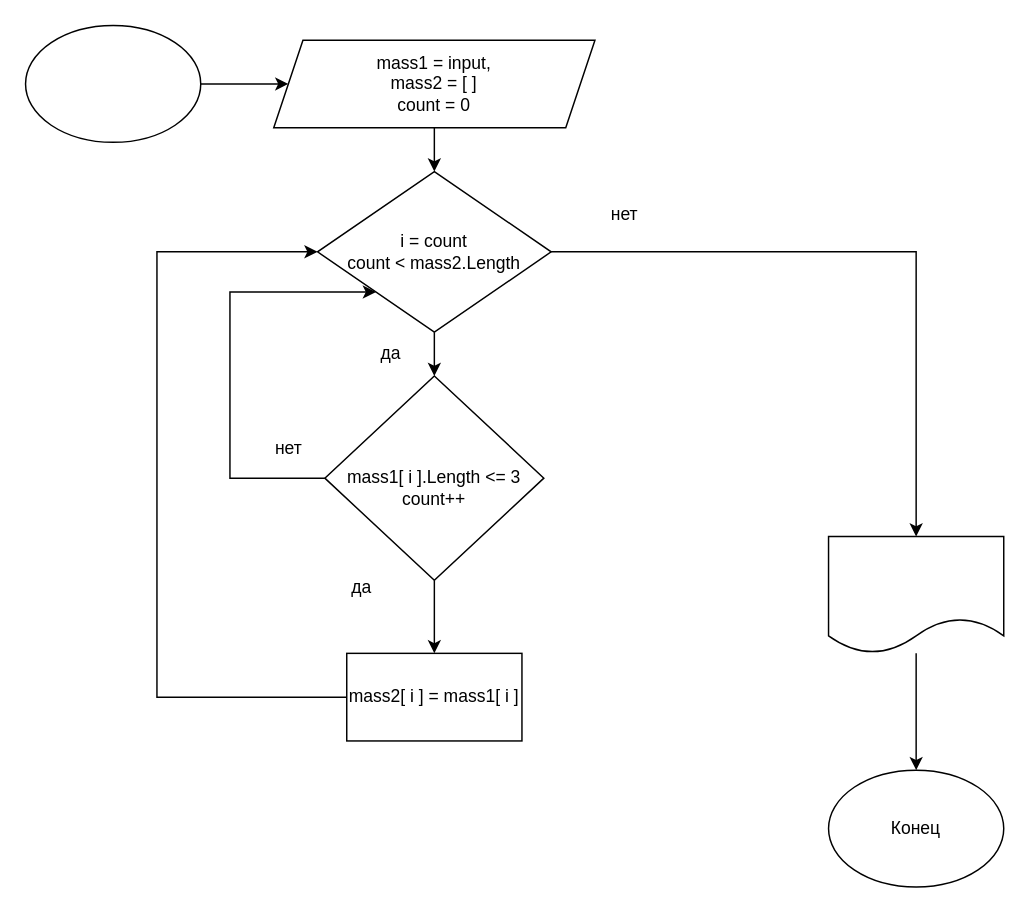
Image size: 1029x913. Some labels were removed from this diagram. Each missing label, with the box of its shape:
вывод mass2: (827, 535, 1004, 653)
Начало: (24, 24, 201, 142)
